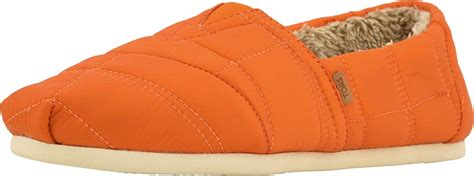nylon: (1, 1, 473, 154)
